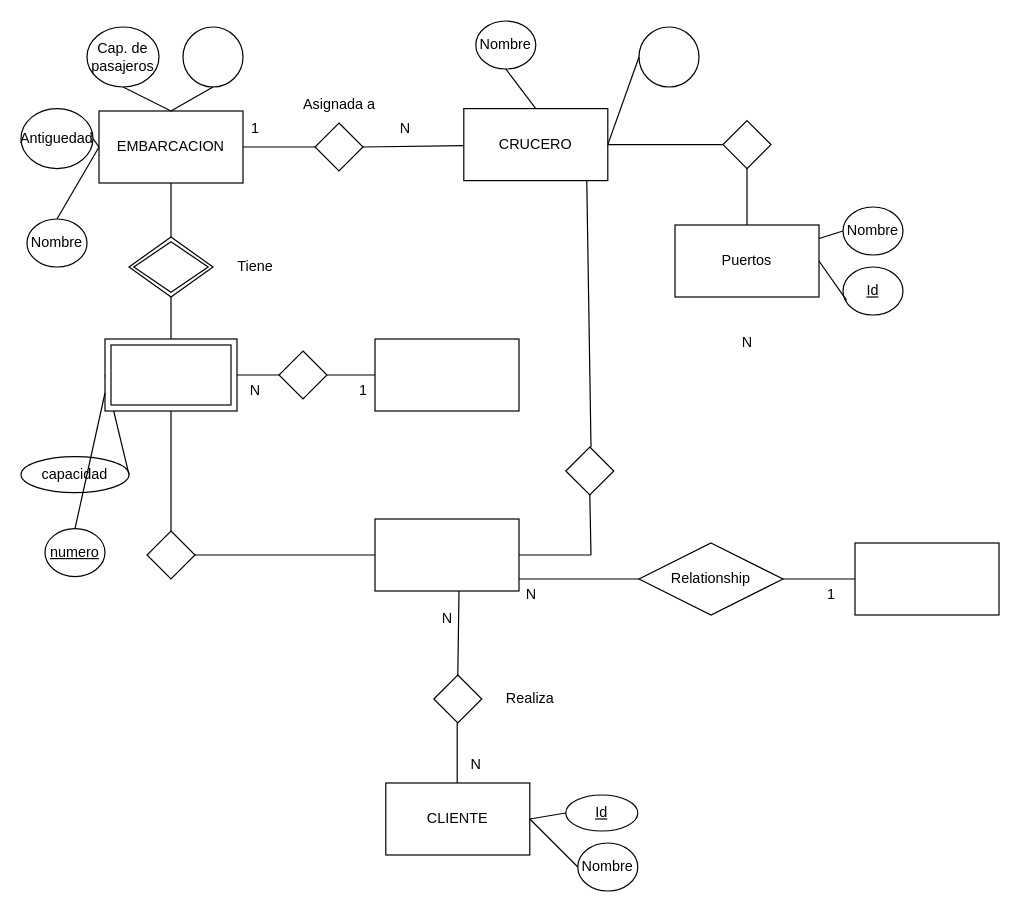
The diagram is 1020 pixels wide and 912 high, and some of its shapes have lost their labels. The centre of each missing label's shape, as x and y in pixels:
"AGENTE" belongs at (x=926, y=578).
"CATEGORIA" belongs at (x=446, y=374).
"Duracion" belongs at (x=668, y=56).
"HABITACION" belongs at (x=170, y=374).
"Matricula" belongs at (x=212, y=56).
"RESERVA" belongs at (x=446, y=554).
